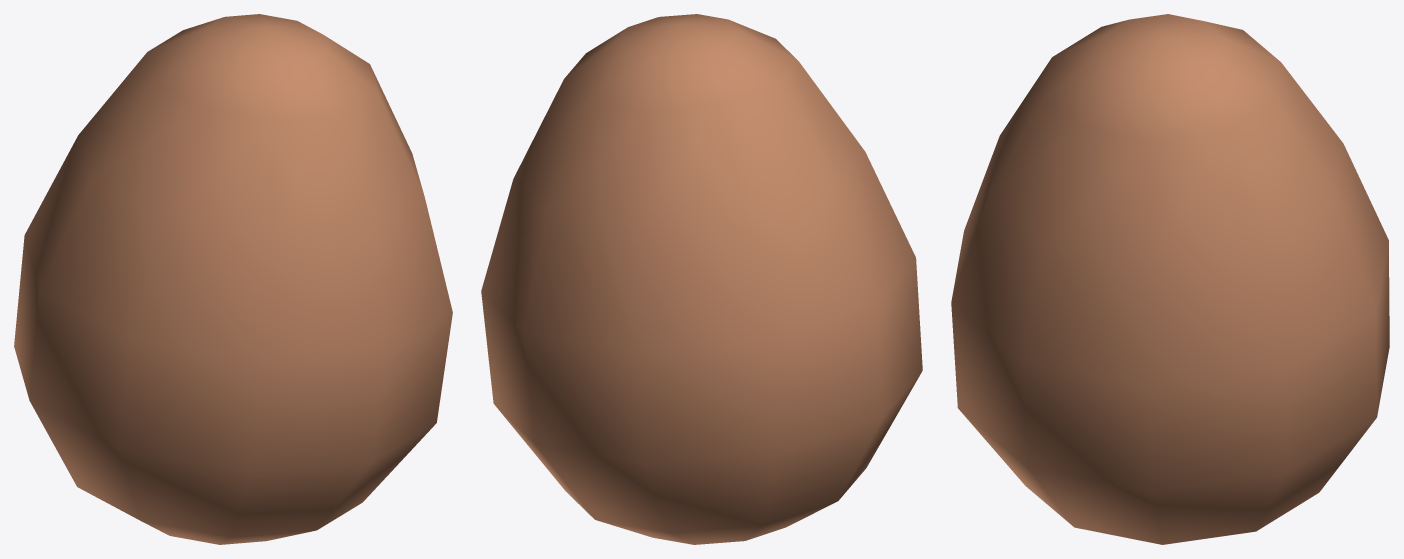
The model's file is egg01.fbx.
The picture shows the model from 3 angles, left to right: view 1: azimuth 30°, elevation 25°; view 2: azimuth 150°, elevation 25°; view 3: azimuth 270°, elevation 25°; orthographic projection. The views are drawn at different scales.
Parts seen in each view (by area): view 1: egg01; view 2: egg01; view 3: egg01.
Boxes of the visible parts, x1,y1,x2,y2 form: egg01: (14,14,452,544); egg01: (481,14,922,544); egg01: (951,14,1389,544).
Size of the model in its own units: 0.6849 by 0.8299 by 0.6606.
